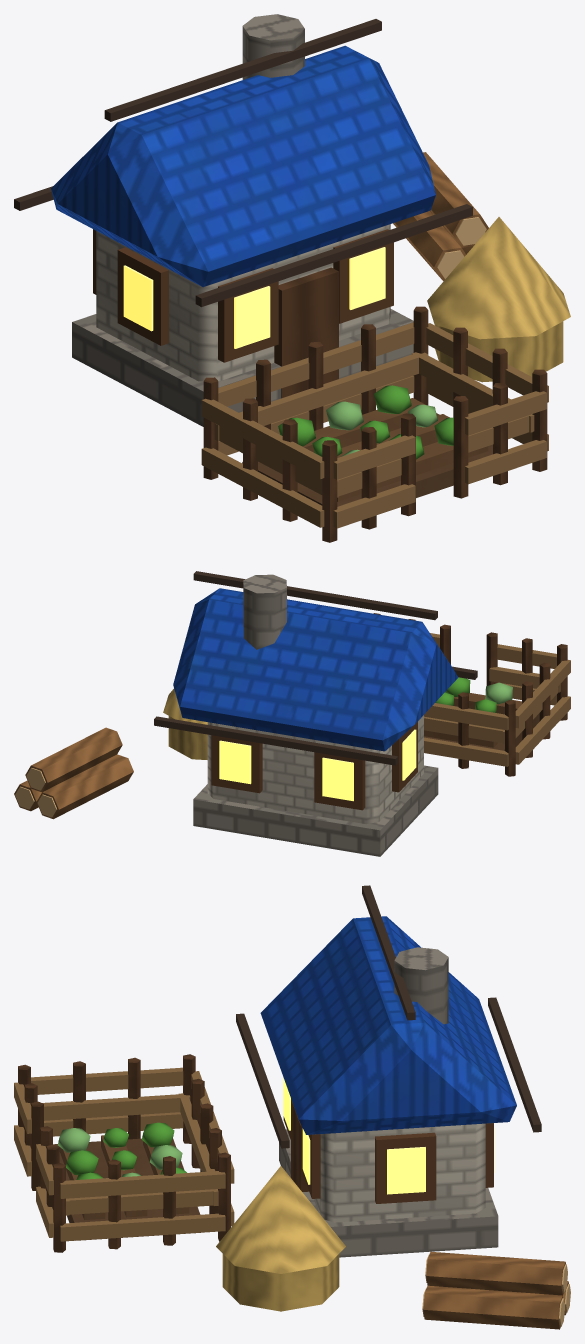
The model's file is homestead_blue.glb.
3 renders of one model, top to bottom at view 1: azimuth 30°, elevation 25°; view 2: azimuth 150°, elevation 25°; view 3: azimuth 270°, elevation 25°, orthographic. The views are drawn at different scales.
Parts seen in each view (by area): view 1: homestead_blue; view 2: homestead_blue; view 3: homestead_blue.
Part boxes in pixels (x1,y1,x2,y2): homestead_blue: (14, 14, 570, 542); homestead_blue: (14, 571, 570, 856); homestead_blue: (14, 885, 570, 1329).
Bounding box in the file's own units: 0.4897 × 0.2998 × 0.5682.
2 materials, 1 textured.
